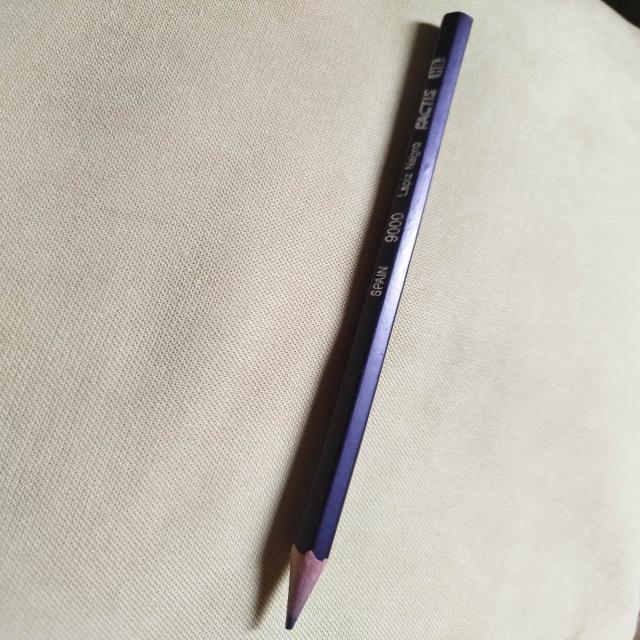pencil: (284, 11, 473, 630)
